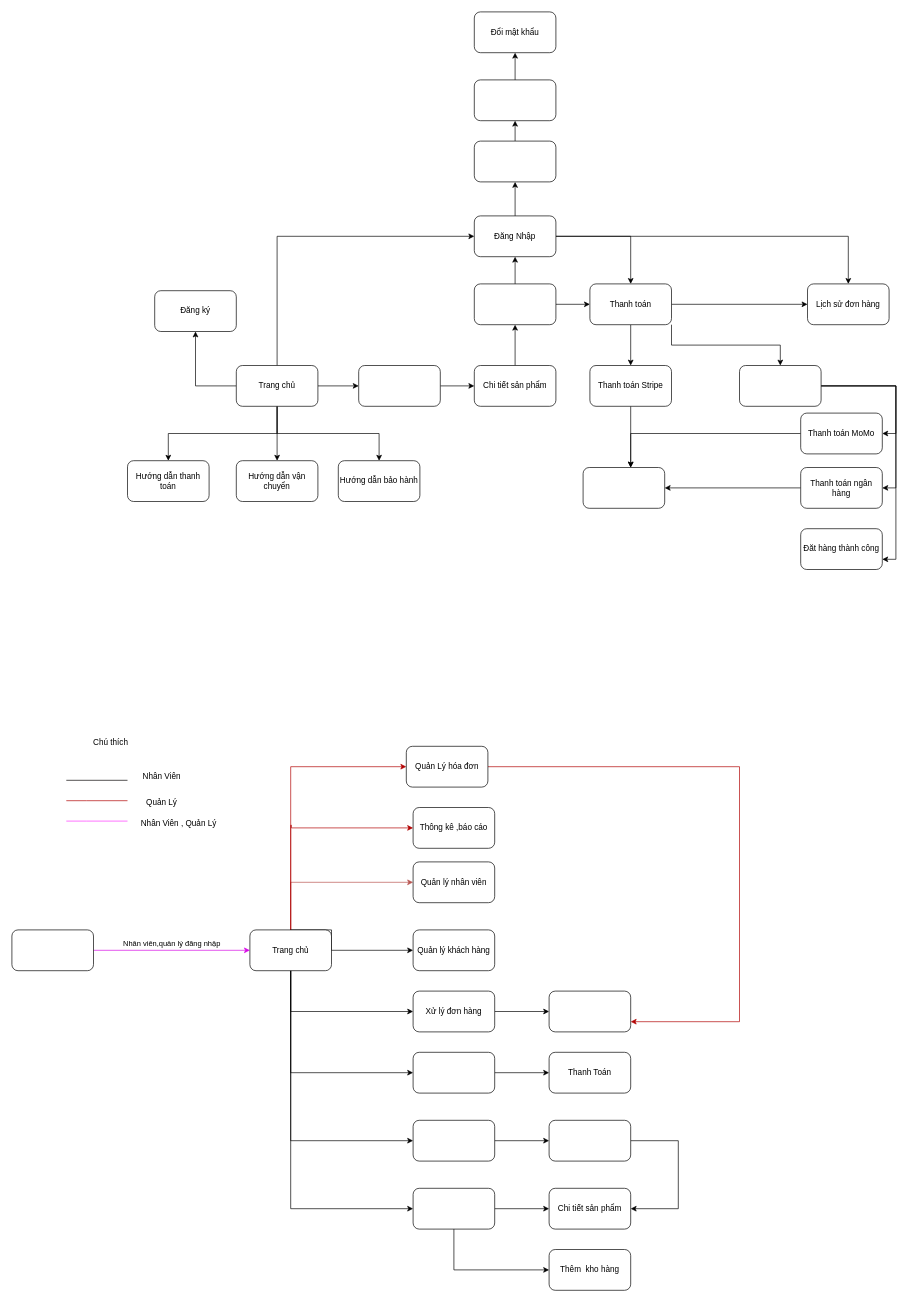
The diagram is 913 pixels wide and 1302 high, and some of its shapes have lost their labels. Here are the shapes that lost their labels. From the top down, the box of each, then its label:
(474, 79, 556, 121): Kiểm tra OTP
(474, 140, 556, 182): Quên mật khẩu
(474, 283, 556, 325): Giỏ hàng
(358, 365, 440, 406): Danh mục sản phẩm
(739, 365, 821, 406): Thanh toán khác
(582, 467, 665, 508): Thanh toán thành công
(11, 929, 94, 971): Đăng nhâp
(548, 990, 631, 1032): Chi tiết đơn hàng
(412, 1052, 495, 1093): Bán hàng
(412, 1120, 495, 1161): Quản lý kho hàng
(548, 1120, 631, 1161): Chi tiết kho hàng
(412, 1188, 495, 1229): Quản lý sản phẩm
